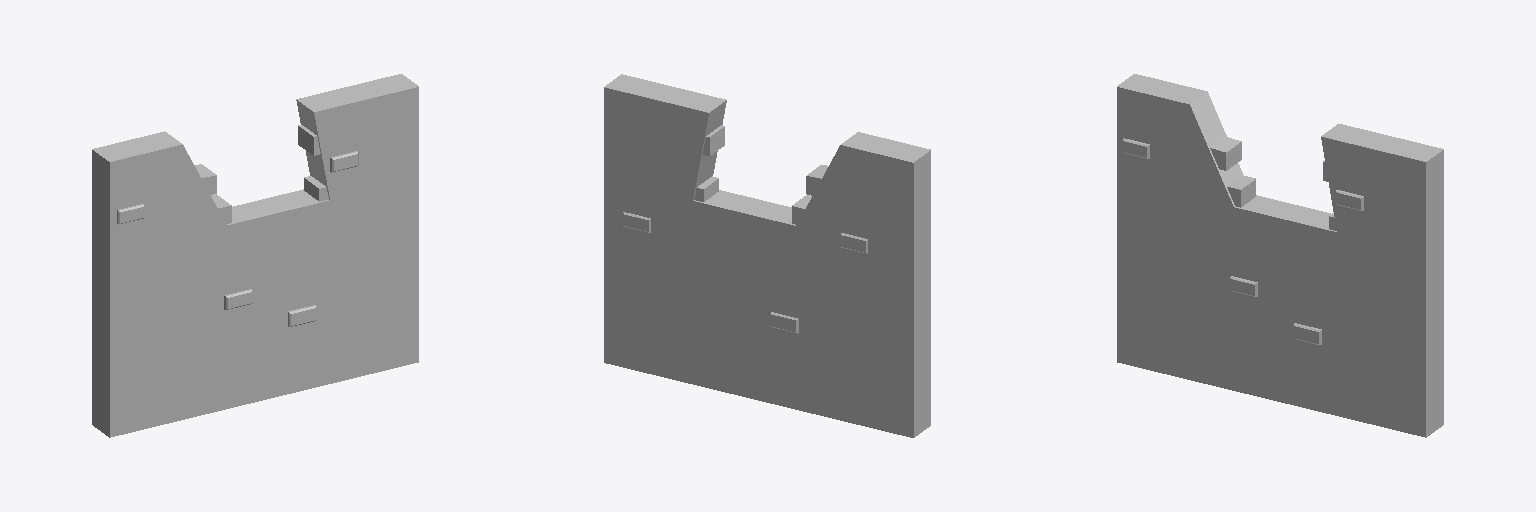
Rendered from wall_02.obj.
3 views of the same model, side by side, from view 1: azimuth 30°, elevation 25°; view 2: azimuth 150°, elevation 25°; view 3: azimuth 330°, elevation 25° (orthographic).
Visible parts, largest first — view 1: Cube.001; view 2: Cube.001; view 3: Cube.001.
Boxes of the visible parts, box(x1,y1,x2,y2) form: Cube.001: box(92, 74, 418, 437); Cube.001: box(604, 74, 930, 437); Cube.001: box(1117, 74, 1443, 437).
Bounding box in the file's own units: 2 × 1.7 × 0.234.